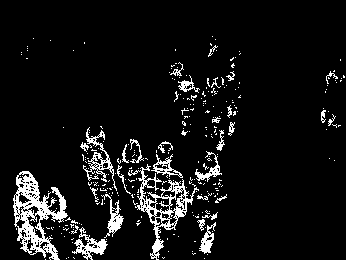person: (145, 137, 186, 253), (42, 186, 106, 260), (83, 123, 122, 235), (187, 147, 227, 254), (16, 170, 57, 256), (120, 138, 148, 222)
